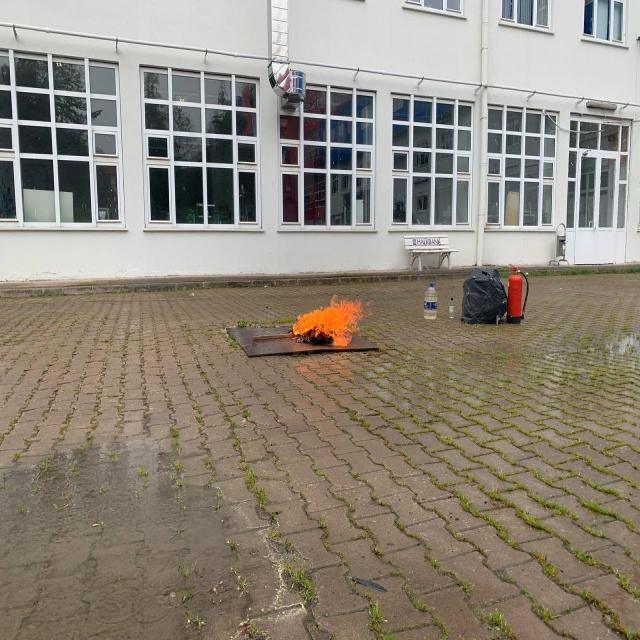fire: (292, 292, 371, 348)
